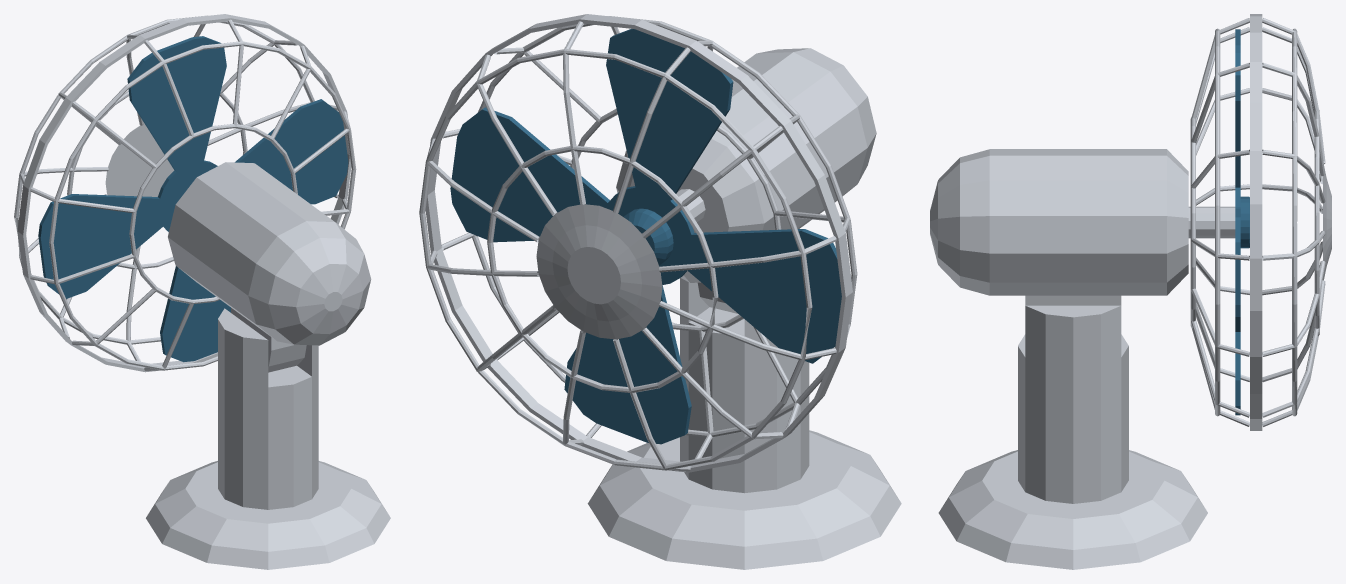
Rendered from Desk_fan.fbx.
3 views of the same model, side by side, from view 1: azimuth 30°, elevation 25°; view 2: azimuth 150°, elevation 25°; view 3: azimuth 270°, elevation 25° (orthographic). The views are drawn at different scales.
Parts seen in each view (by area): view 1: Desk_fan.001, Desk_fan, Blades; view 2: Desk_fan.001, Blades, Desk_fan; view 3: Desk_fan.001, Desk_fan, Blades.
Part boxes in pixels (left/top/right/bottom): Desk_fan.001: left=14, top=14, right=371, bottom=372; Desk_fan: left=146, top=308, right=390, bottom=569; Blades: left=38, top=36, right=348, bottom=362; Desk_fan.001: left=419, top=14, right=876, bottom=472; Blades: left=450, top=28, right=841, bottom=444; Desk_fan: left=587, top=278, right=901, bottom=569; Desk_fan.001: left=930, top=14, right=1331, bottom=430; Desk_fan: left=938, top=295, right=1207, bottom=569; Blades: left=1235, top=29, right=1249, bottom=415.
Size of the model in its own units: 1.01 by 0.9681 by 1.28.
